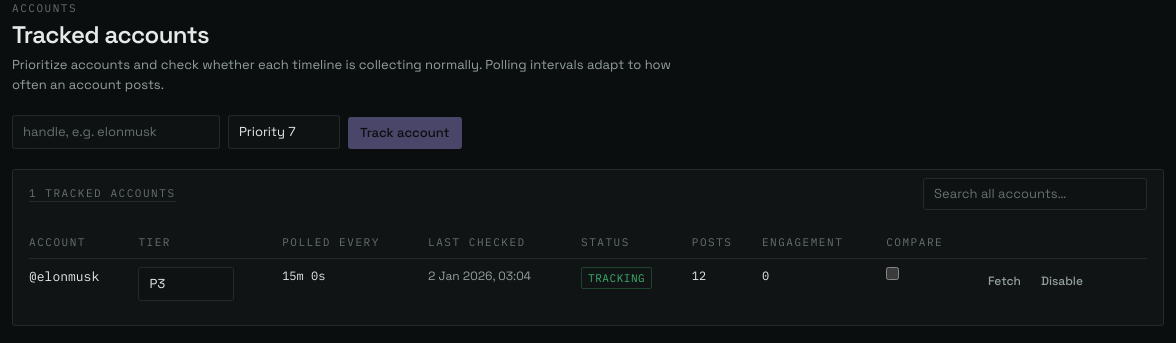
Test: account timeline › loads the timeline when a handle is clicked
Click the button "@elonmusk" at (64, 277), box [29,267,99,287]
(page scrolled)
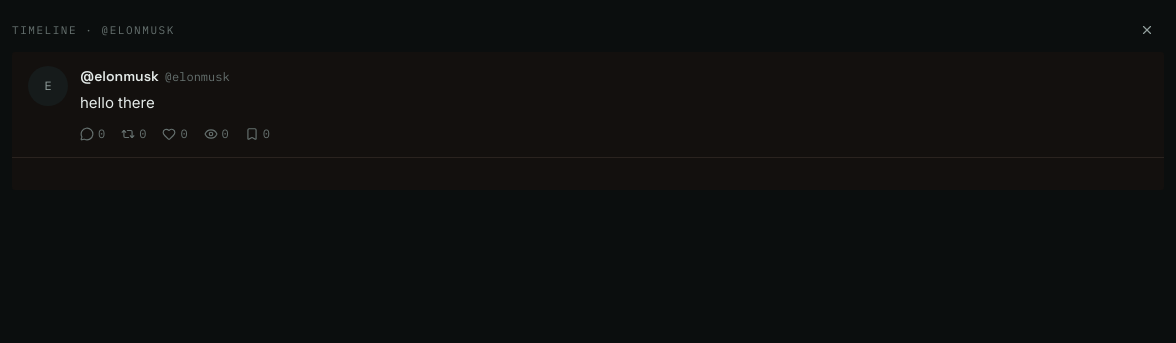
Now the text "hello there" is shown, box [80,93,155,112]
